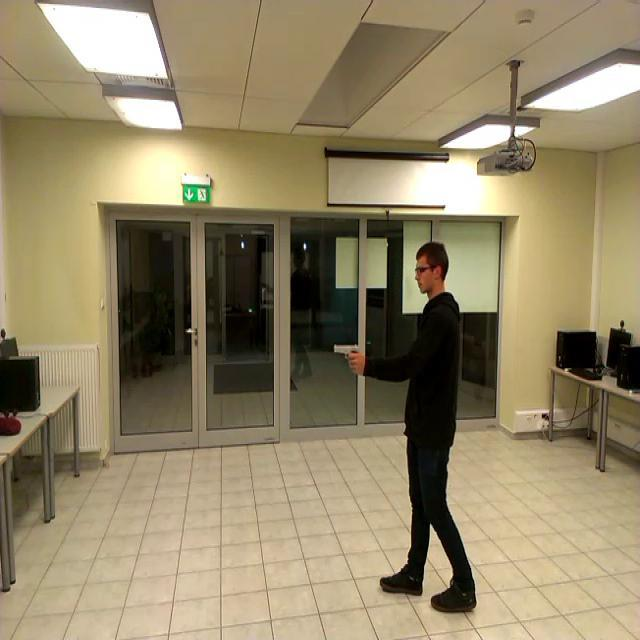Gun: (335, 342, 360, 370)
